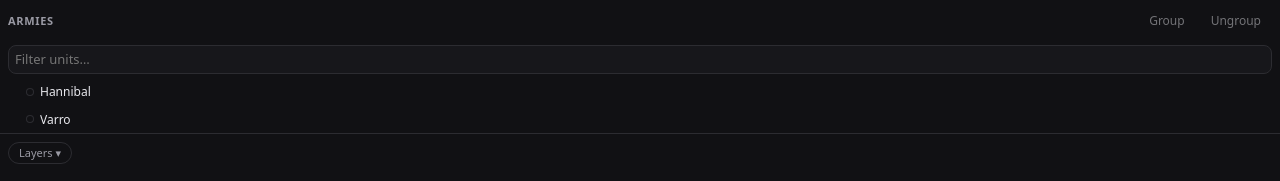
ArmiesPanel › filter narrows to matching display names
Type "varro" into the field with test id "armies-filter". click: (640, 60)
box: left=8, top=45, right=1272, bottom=74
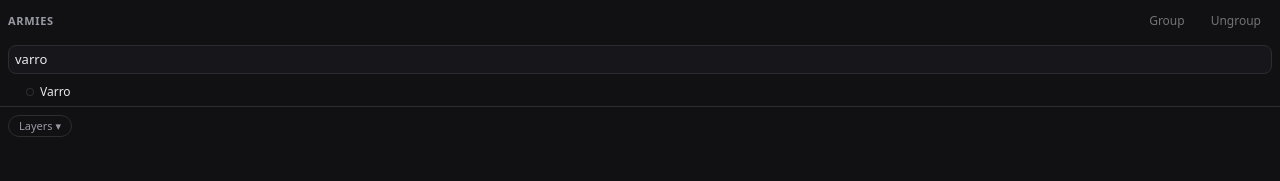
Replace the text in the field with test id "armies-filter" with "zzz". click: (640, 60)
box: left=8, top=45, right=1272, bottom=74
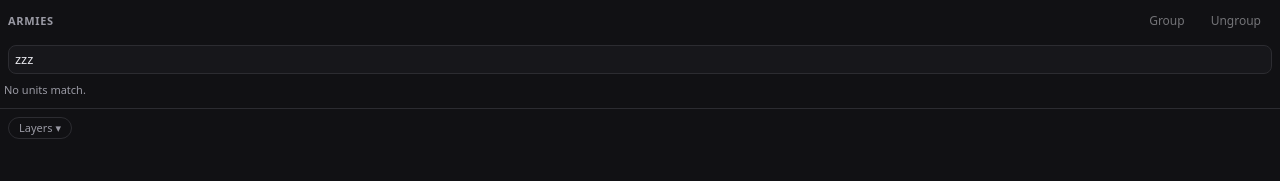
Expected: the text "No units match." is shown, left=4, top=82, right=86, bottom=97
